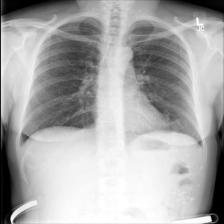normal: (16, 12, 204, 149)
